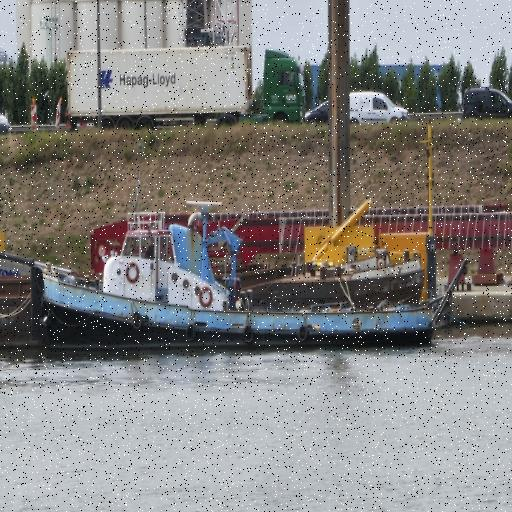tugboat: (30, 117, 473, 365)
